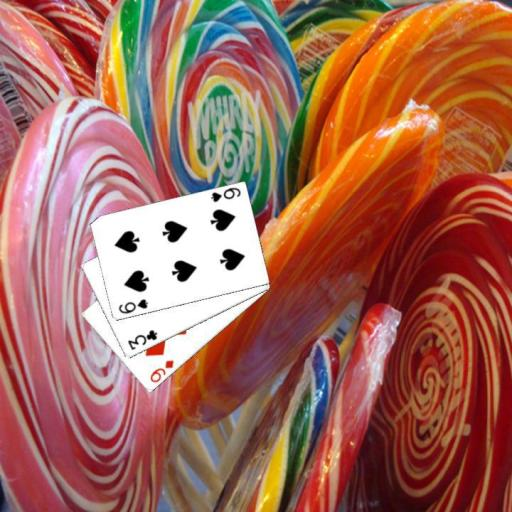3C: (125, 327, 159, 352)
6S: (116, 296, 150, 316), (208, 185, 242, 204)
9D: (146, 357, 175, 385)
